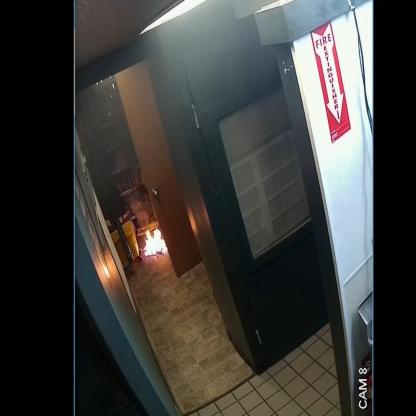fire: (144, 230, 168, 257)
